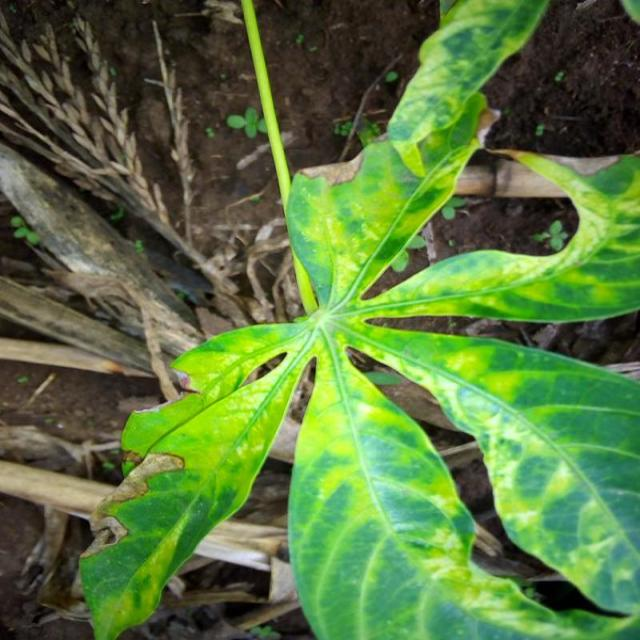cassava leaf: (77, 0, 639, 639)
